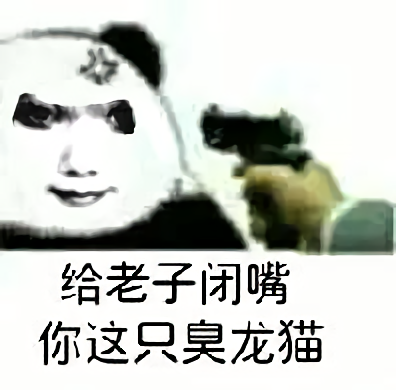dragon: (12, 88, 138, 212)
